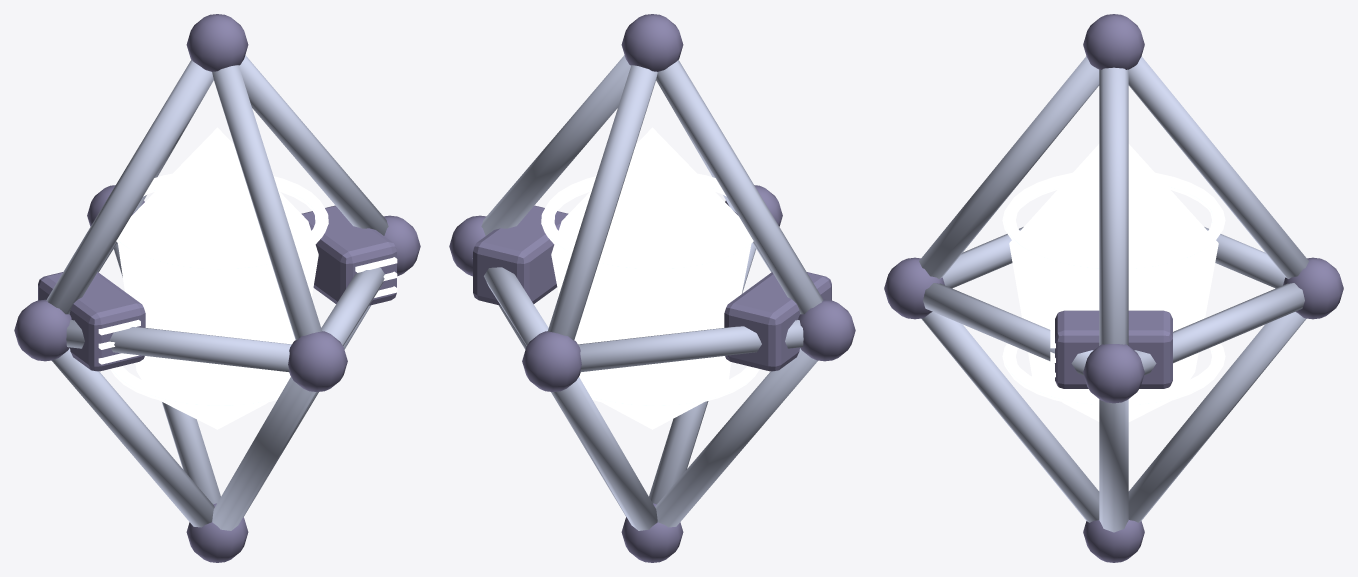
The model's file is memory-core.glb.
The picture shows the model from 3 angles, left to right: view 1: azimuth 30°, elevation 25°; view 2: azimuth 150°, elevation 25°; view 3: azimuth 270°, elevation 25°; orthographic projection.
Visible parts, largest first — view 1: body_ceramic.005, body_light.005, body_hull.005; view 2: body_ceramic.005, body_light.005, body_hull.005; view 3: body_ceramic.005, body_light.005, body_hull.005.
Boxes of the visible parts, bbox=[...] form: body_ceramic.005: bbox=[46, 55, 397, 530]; body_light.005: bbox=[98, 127, 397, 429]; body_hull.005: bbox=[14, 14, 420, 562]; body_ceramic.005: bbox=[472, 55, 823, 530]; body_light.005: bbox=[541, 127, 832, 429]; body_hull.005: bbox=[449, 14, 855, 562]; body_ceramic.005: bbox=[919, 56, 1308, 532]; body_light.005: bbox=[1002, 144, 1225, 421]; body_hull.005: bbox=[884, 14, 1343, 562].
Size of the model in its own units: 1.53 by 2 by 1.53.
